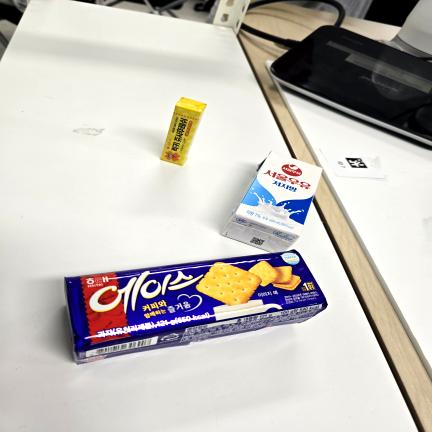cracker_ace: (65, 249, 327, 364)
gum_yellow: (160, 98, 206, 165)
milk_blue: (221, 151, 322, 252)
